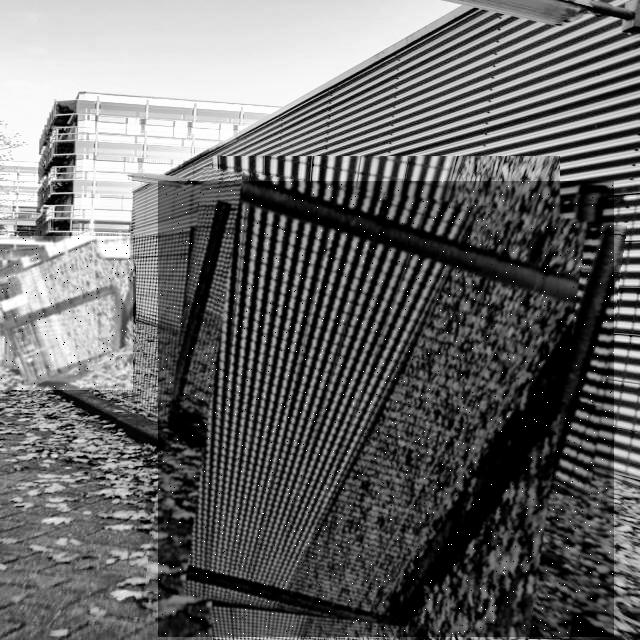fences: (158, 181, 614, 637), (0, 236, 133, 390)
